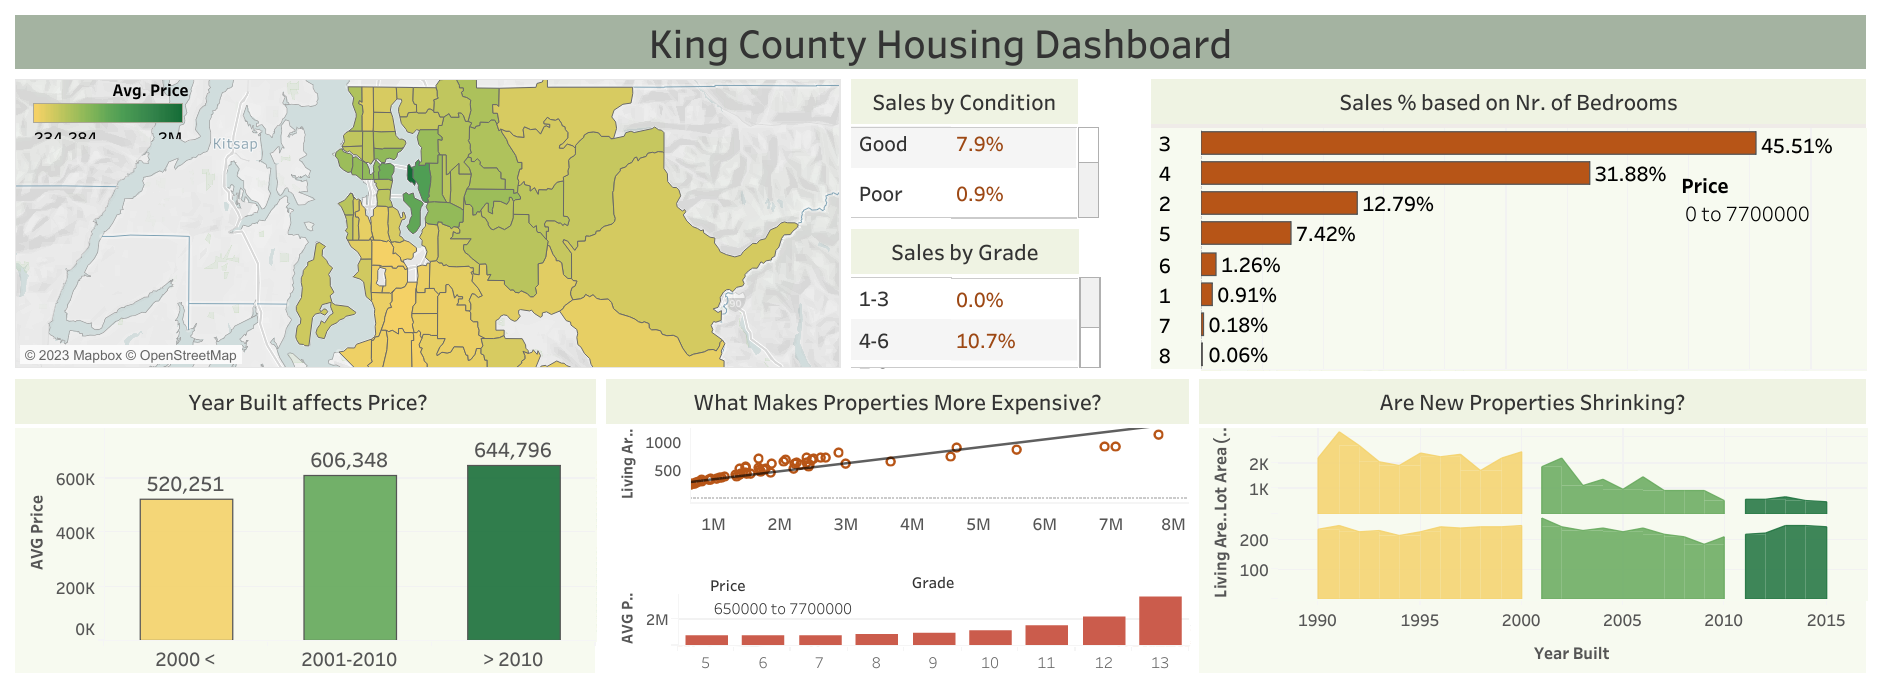

The dashboard page shown, as its layout file describes it:
{"tool":"tableau","page":{"name":"10.DASHBOARD","canvas":[1000,1000],"units":"permille","ordinal":0},"visuals":[{"type":"title","box":[6,11.8,987.9,75.1]},{"type":"worksheet","title":"4. King County House Prices","mark":"Automatic","box":[6,86.9,443.8,447.9]},{"type":"worksheet","title":"Condition vs total houses","mark":"Automatic","rows":["Calculation_1049338735574519808"],"box":[449.8,86.9,159.7,223.7]},{"type":"worksheet","title":"5.most_selling_properties_bedrooms","mark":"Automatic","rows":["bedrooms"],"cols":["date"],"box":[609.5,86.9,384.5,447.9]},{"type":"legend","title":"4. King County House Prices","param":"[federated.11tr0hg1wmtdbl1325f1k0ljsoht].[avg:price:qk]","box":[15.1,104.6,85.1,97.2]},{"type":"filter","title":"5.most_selling_properties_bedrooms","param":"[federated.11tr0hg1wmtdbl1325f1k0ljsoht].[none:price:qk]","box":[893.6,246,97.4,109]},{"type":"worksheet","title":"Grade vs total houses","mark":"Automatic","rows":["Calculation_1049338735592349700"],"box":[449.8,310.5,159.7,224.3]},{"type":"worksheet","title":"7. year_built_bins_price","mark":"Automatic","rows":["price"],"cols":["Calculation_1347983684513673224"],"box":[6,534.8,313.8,453.4]},{"type":"worksheet","title":"Living/Lot area vs price-scatterplot","mark":"Automatic","rows":["sqm_living"],"cols":["price"],"box":[319.8,534.8,314.8,255.1]},{"type":"worksheet","title":"9.Categories Trends2","mark":"Area","rows":["sqm_lot","sqm_living"],"cols":["yr_built"],"box":[634.6,534.8,359.4,453.4]},{"type":"worksheet","title":"Price vs Grade","mark":"Automatic","rows":["price"],"cols":["grade"],"box":[319.8,789.9,314.8,198.3]},{"type":"filter","title":"Price vs Grade","param":"[federated.11tr0hg1wmtdbl1325f1k0ljsoht].[none:price:qk]","box":[377.4,832.1,80,81]}]}

Visuals, with their boxes on the dashboard's canvas, which has no fixed pixel size, in thousandths of its width and height (x1, y1, x2, y2). These are canvas units, not pixel positions in the 1880x686 screenshot, which may show the page scaled, cropped or inside an application window:
title: region(6, 12, 994, 87)
"4. King County House Prices" worksheet: region(6, 87, 450, 535)
"Condition vs total houses" worksheet: region(450, 87, 610, 311)
"5.most_selling_properties_bedrooms" worksheet: region(610, 87, 994, 535)
"4. King County House Prices" legend: region(15, 105, 100, 202)
"5.most_selling_properties_bedrooms" filter: region(894, 246, 991, 355)
"Grade vs total houses" worksheet: region(450, 310, 610, 535)
"7. year_built_bins_price" worksheet: region(6, 535, 320, 988)
"Living/Lot area vs price-scatterplot" worksheet: region(320, 535, 635, 790)
"9.Categories Trends2" worksheet (Area marks): region(635, 535, 994, 988)
"Price vs Grade" worksheet: region(320, 790, 635, 988)
"Price vs Grade" filter: region(377, 832, 457, 913)
